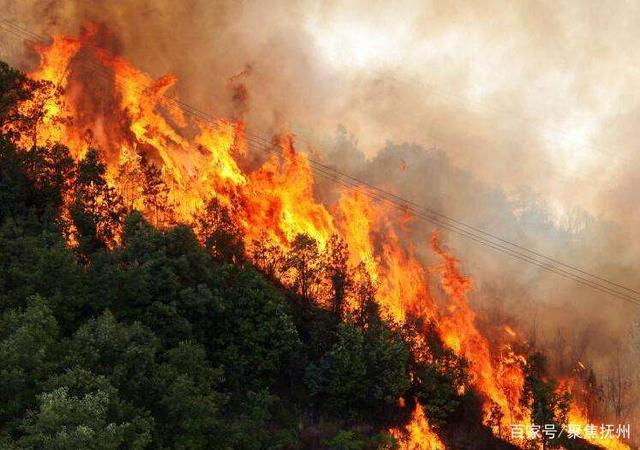fire: (149, 81, 395, 276), (12, 15, 142, 262), (278, 277, 517, 360), (471, 362, 639, 421), (397, 189, 498, 277), (151, 45, 394, 79), (383, 361, 469, 449), (519, 300, 637, 360), (396, 151, 449, 188), (142, 45, 149, 236)
